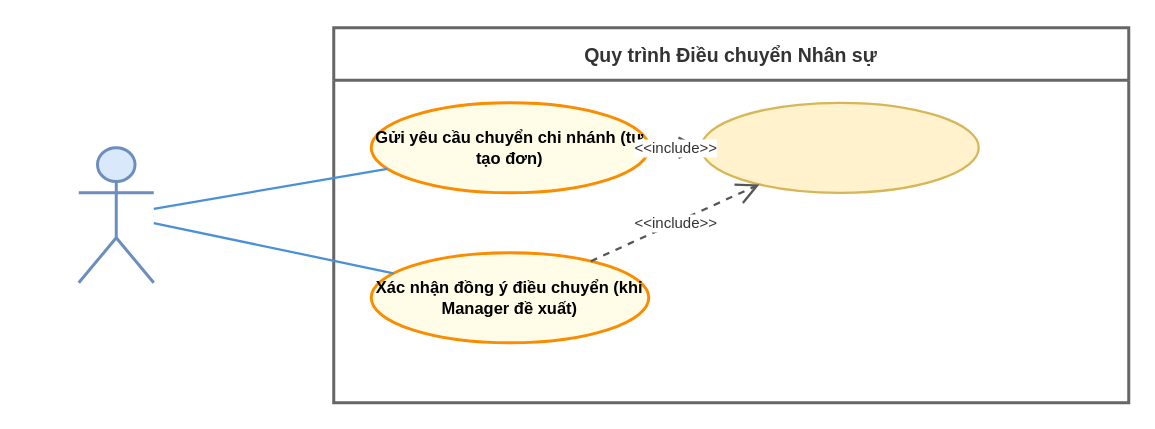
Image size: 1155x429. Some labels were removed from this diagram. Here are the shapes that lost their labels. From the top down, the centre of each, then its label:
At point 839,147: "Đơn chuyển sang trạng thái STAFF_CONFIRMED".
At point 115,215: "Nhân viên kho (STAFF)".
